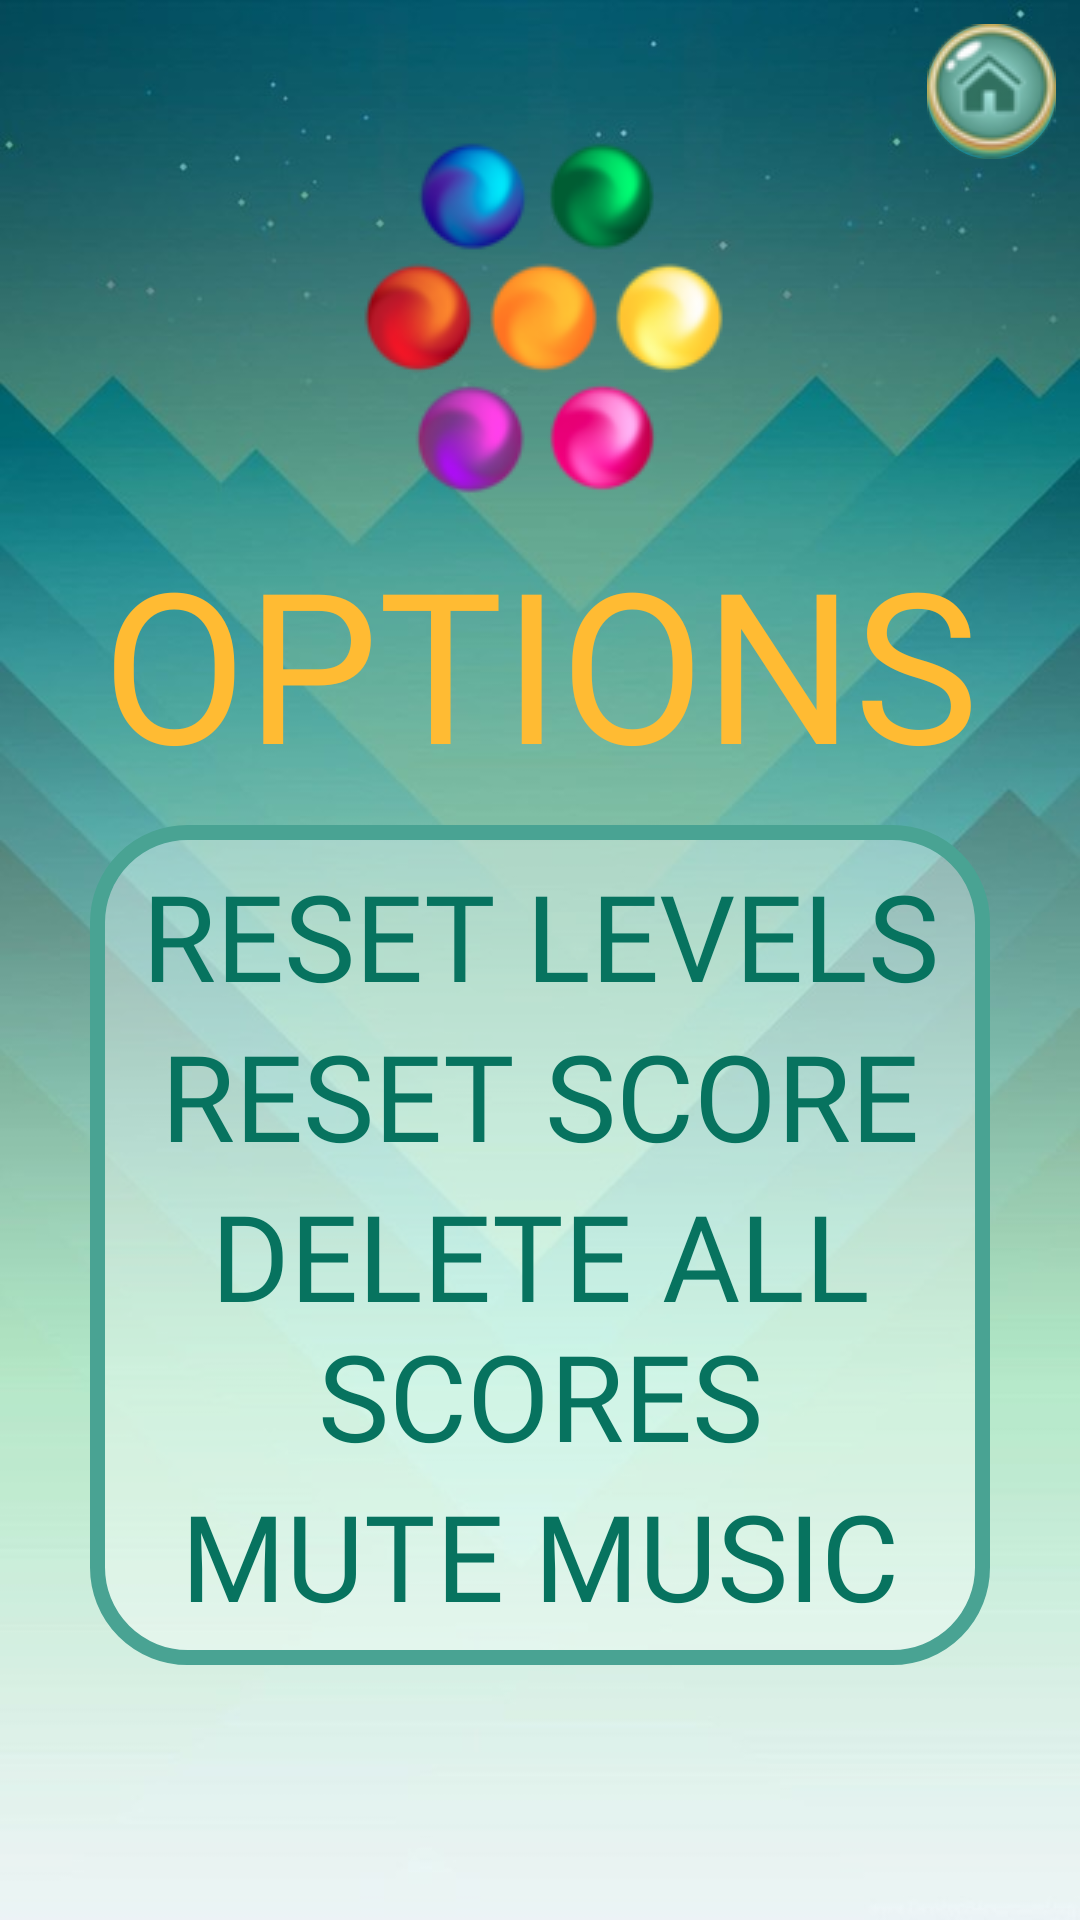

Named icons in this screenshot (1080 x 1920) and their bounding boxes, (x1, y1, x2, y2):
home: (927, 24, 1056, 159)
